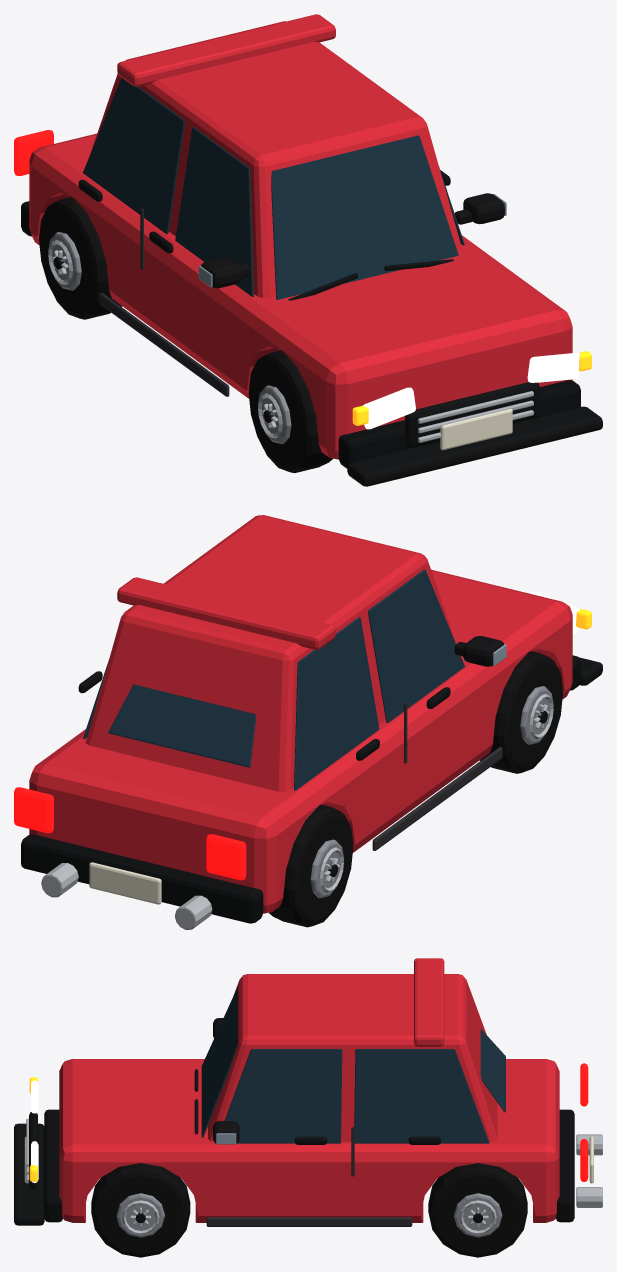
File: sporthatch.glb
The picture shows the model from 3 angles, top to bottom: view 1: azimuth 30°, elevation 25°; view 2: azimuth 150°, elevation 25°; view 3: azimuth 270°, elevation 25°; orthographic projection. The views are drawn at different scales.
Visible parts, largest first — view 1: SportHatch_LowerBody, SportHatch_CabinShell, SportHatch_FrontWindshield_R6, SportHatch_SideWindowRear_L_R6, SportHatch_Hood, SportHatch_SideWindowFront_L_R6, V03_SportHatch_FrontSplitter, SportHatch_RearRoofWing, SportHatch_Wheel_Front_L_R3, SportHatch_Wheel_Rear_L_R3, SportHatch_FrontBumper, V03_SportHatch_FrontGrille (+10 smaller); view 2: SportHatch_LowerBody, SportHatch_CabinShell, SportHatch_SideWindowRear_L_R6, SportHatch_SideWindowFront_L_R6, SportHatch_RearWindow_R5, SportHatch_RearBumper, SportHatch_RearRoofWing, SportHatch_Wheel_Rear_L_R3, SportHatch_Wheel_Front_L_R3, SportHatch_Hood, V03_SportHatch_Plate_Rear, V03_SportHatch_RockerTrim_L (+7 smaller); view 3: SportHatch_LowerBody, SportHatch_CabinShell, SportHatch_SideWindowRear_R_R6, SportHatch_SideWindowFront_R_R6, SportHatch_Wheel_Rear_R_R3, SportHatch_Wheel_Front_R_R3, SportHatch_RearRoofWing, SportHatch_FrontWindshield_R6, V03_SportHatch_FrontSplitter, V03_SportHatch_RockerTrim_R, SportHatch_Hood, SportHatch_RearBumper (+7 smaller).
Boxes of the visible parts, left/top/right/bottom form: SportHatch_LowerBody: left=29, top=133, right=572, bottom=459; SportHatch_CabinShell: left=91, top=21, right=462, bottom=298; SportHatch_FrontWindshield_R6: left=271, top=135, right=458, bottom=299; SportHatch_SideWindowRear_L_R6: left=83, top=78, right=184, bottom=234; SportHatch_Hood: left=312, top=270, right=549, bottom=359; SportHatch_SideWindowFront_L_R6: left=175, top=127, right=253, bottom=296; V03_SportHatch_FrontSplitter: left=347, top=406, right=602, bottom=486; SportHatch_RearRoofWing: left=117, top=14, right=335, bottom=86; SportHatch_Wheel_Front_L_R3: left=248, top=350, right=332, bottom=473; SportHatch_Wheel_Rear_L_R3: left=39, top=197, right=122, bottom=319; SportHatch_FrontBumper: left=338, top=380, right=580, bottom=468; V03_SportHatch_FrontGrille: left=405, top=382, right=539, bottom=447; SportHatch_LowerBody: left=29, top=569, right=572, bottom=913; SportHatch_CabinShell: left=85, top=515, right=455, bottom=791; SportHatch_SideWindowRear_L_R6: left=294, top=617, right=379, bottom=790; SportHatch_SideWindowFront_L_R6: left=368, top=569, right=464, bottom=722; SportHatch_RearWindow_R5: left=108, top=684, right=255, bottom=767; SportHatch_RearBumper: left=21, top=834, right=263, bottom=923; SportHatch_RearRoofWing: left=117, top=577, right=335, bottom=649; SportHatch_Wheel_Rear_L_R3: left=269, top=804, right=353, bottom=927; SportHatch_Wheel_Front_L_R3: left=479, top=651, right=562, bottom=773; SportHatch_Hood: left=432, top=574, right=549, bottom=639; V03_SportHatch_Plate_Rear: left=89, top=862, right=161, bottom=904; V03_SportHatch_RockerTrim_L: left=372, top=747, right=502, bottom=850; SportHatch_LowerBody: left=59, top=1059, right=559, bottom=1222; SportHatch_CabinShell: left=208, top=974, right=497, bottom=1141; SportHatch_SideWindowRear_R_R6: left=354, top=1049, right=489, bottom=1143; SportHatch_SideWindowFront_R_R6: left=224, top=1049, right=342, bottom=1143; SportHatch_Wheel_Rear_R_R3: left=428, top=1163, right=527, bottom=1257; SportHatch_Wheel_Front_R_R3: left=91, top=1163, right=190, bottom=1257; SportHatch_RearRoofWing: left=414, top=958, right=444, bottom=1046; SportHatch_FrontWindshield_R6: left=201, top=987, right=237, bottom=1137; V03_SportHatch_FrontSplitter: left=14, top=1123, right=44, bottom=1225; V03_SportHatch_RockerTrim_R: left=206, top=1217, right=412, bottom=1226; SportHatch_Hood: left=76, top=1060, right=161, bottom=1139; SportHatch_RearBumper: left=556, top=1109, right=574, bottom=1222.
Bounding box in the file's own units: 1.59 × 1.35 × 3.39.
